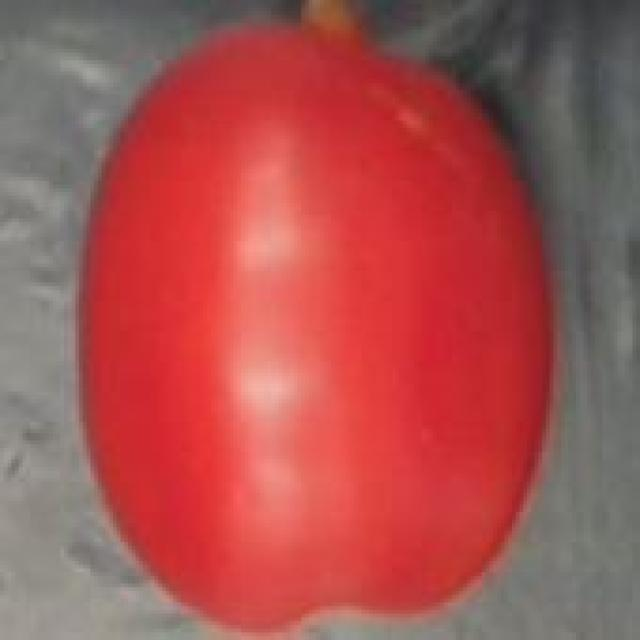ripe tomato: (64, 0, 580, 640)
